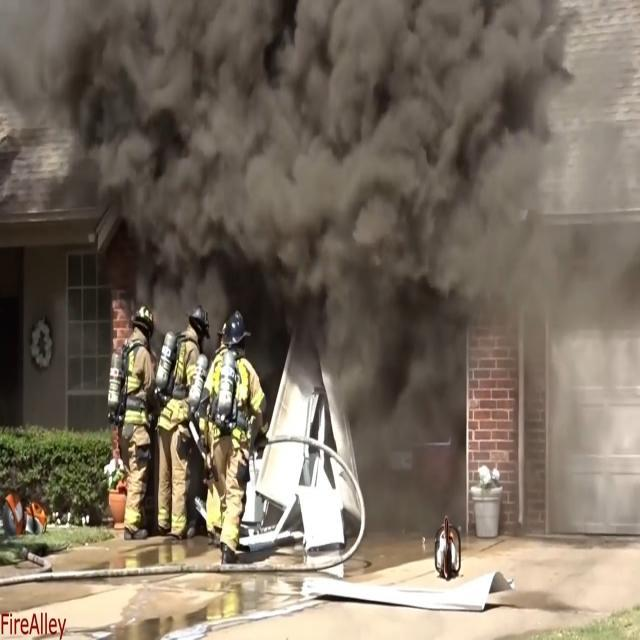Smoke: (98, 20, 566, 300)
